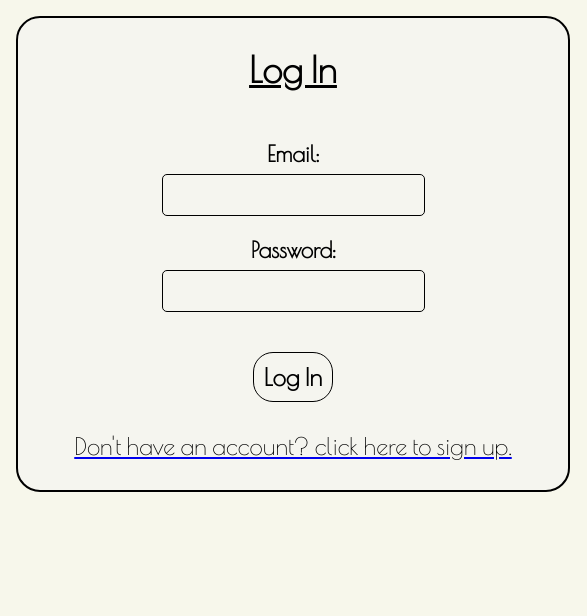
Test case: Login › non-server errors › shows error when password is blank
Type "email" into the field labelled "Email:".
click(293, 195); type("email")  # box [162, 174, 424, 216]
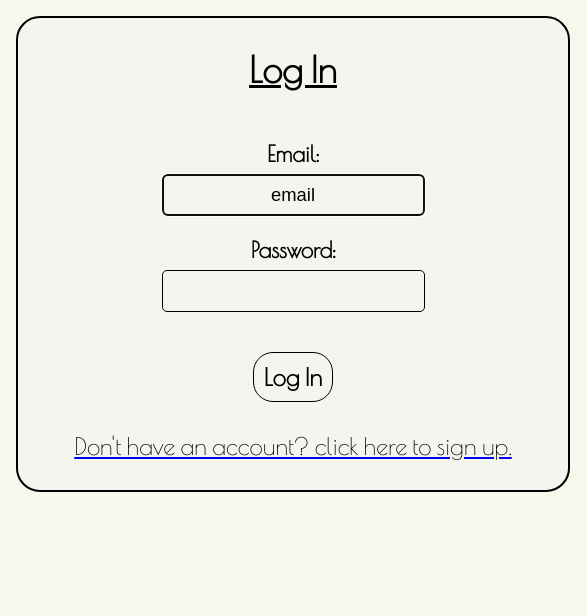
Click the button with test id "log-in-button".
click(293, 377)  # box [253, 352, 333, 402]
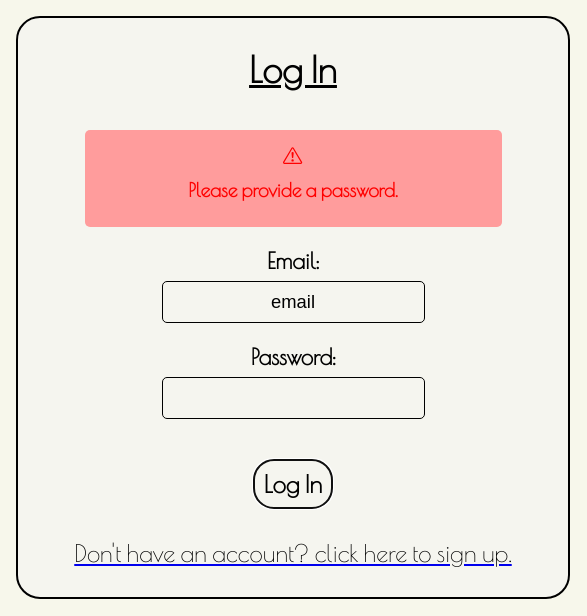
Expected: the text "Please provide a password." is shown, [188, 179, 398, 201]
